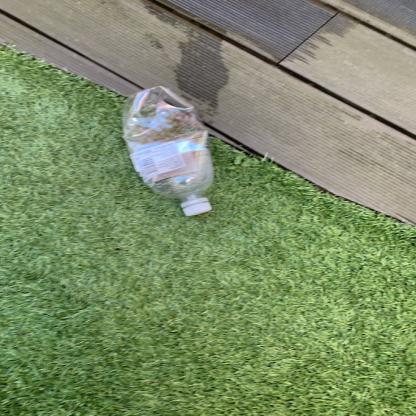trash: (122, 84, 216, 219)
